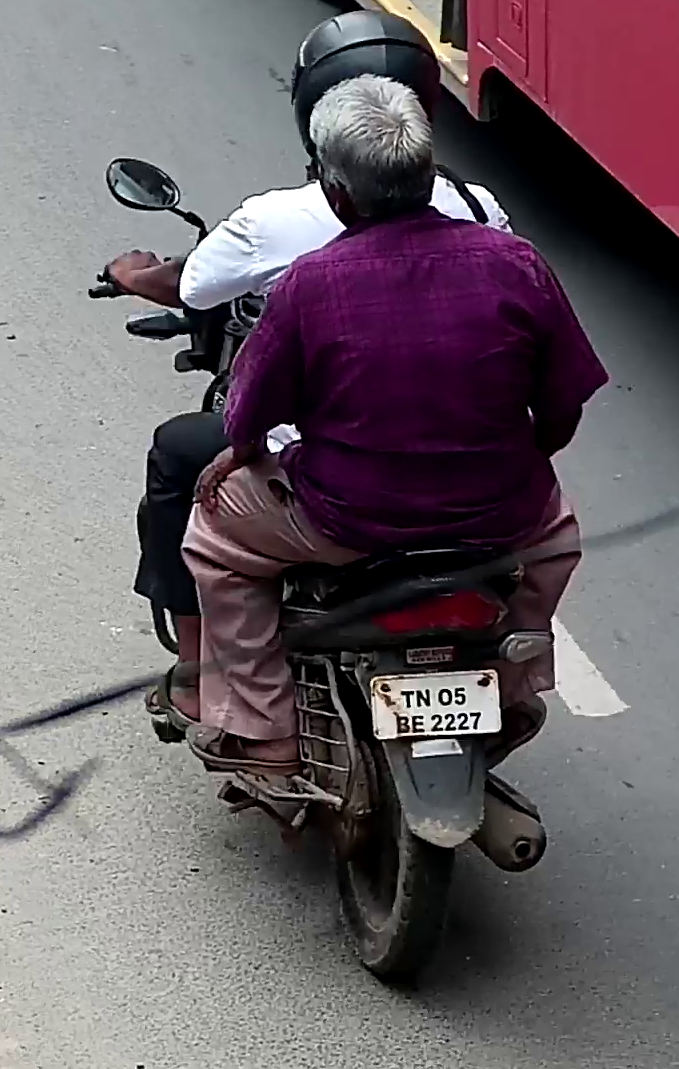0: (437, 688, 453, 706)
2: (443, 713, 457, 732), (430, 714, 443, 732), (457, 712, 469, 731)
5: (453, 687, 466, 705)
7: (470, 712, 482, 730)
B: (395, 715, 410, 734)
E: (411, 714, 425, 734)
N: (416, 689, 432, 708)
P16: (368, 669, 503, 741)
T: (400, 690, 416, 708)
